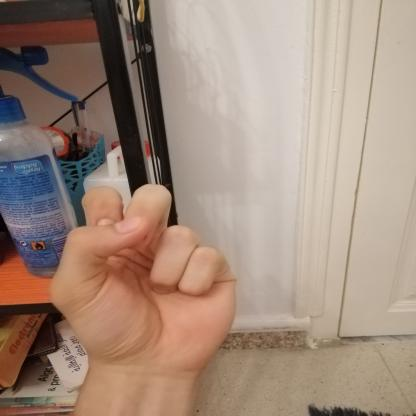QAAF: (30, 176, 258, 384)
